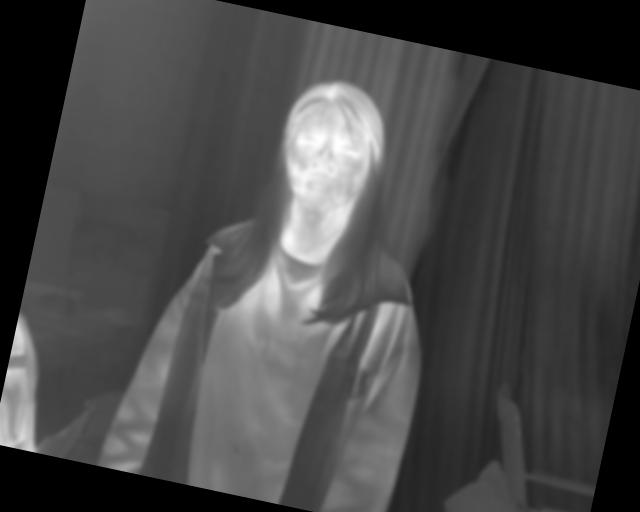face: (272, 71, 395, 224)
